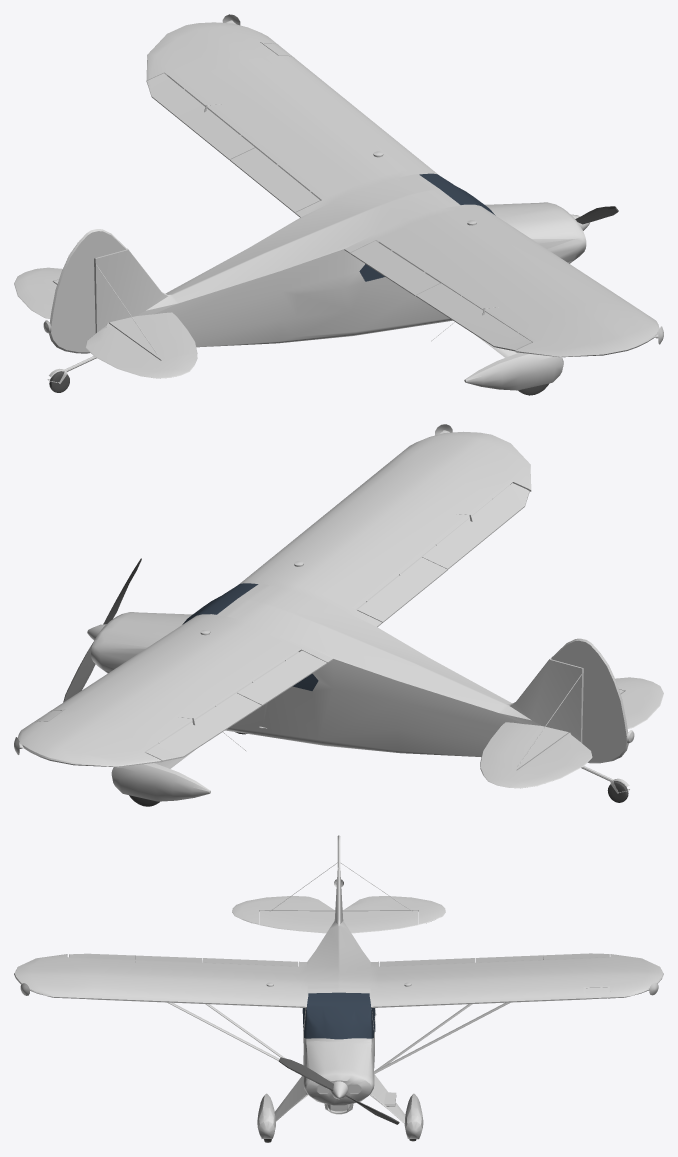
3 views of the same model, one above another, from view 1: azimuth 30°, elevation 25°; view 2: azimuth 150°, elevation 25°; view 3: azimuth 270°, elevation 25° (orthographic). The views are drawn at different scales.
Parts seen in each view (by area): view 1: body, glass; view 2: body, glass, spin; view 3: body, glass, spin.
Part boxes in pixels (left/top/right/bottom): body: left=14, top=14, right=663, bottom=390; glass: left=359, top=173, right=495, bottom=281; body: left=14, top=424, right=663, bottom=801; glass: left=182, top=583, right=318, bottom=690; spin: left=63, top=558, right=141, bottom=702; body: left=14, top=835, right=663, bottom=1139; glass: left=302, top=992, right=375, bottom=1039; spin: left=278, top=1057, right=399, bottom=1124.
Size of the model in its own units: 1.57 by 0.6162 by 2.2.
